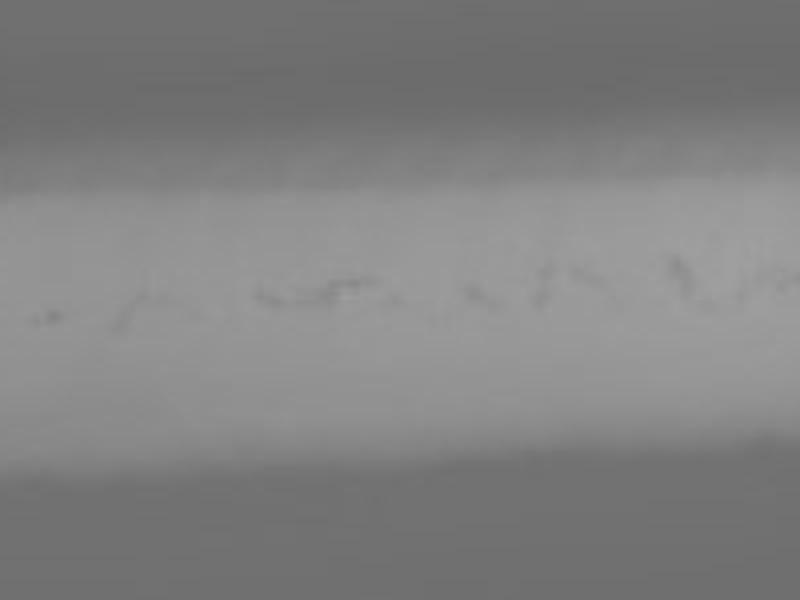defect: (310, 275, 346, 310), (667, 256, 696, 299), (247, 280, 285, 310), (343, 272, 391, 292), (536, 255, 563, 285), (530, 285, 557, 314), (116, 292, 135, 333), (573, 265, 608, 287), (690, 286, 718, 312), (381, 291, 412, 313), (768, 270, 794, 296), (461, 282, 485, 306), (43, 306, 67, 324), (729, 287, 748, 307)
